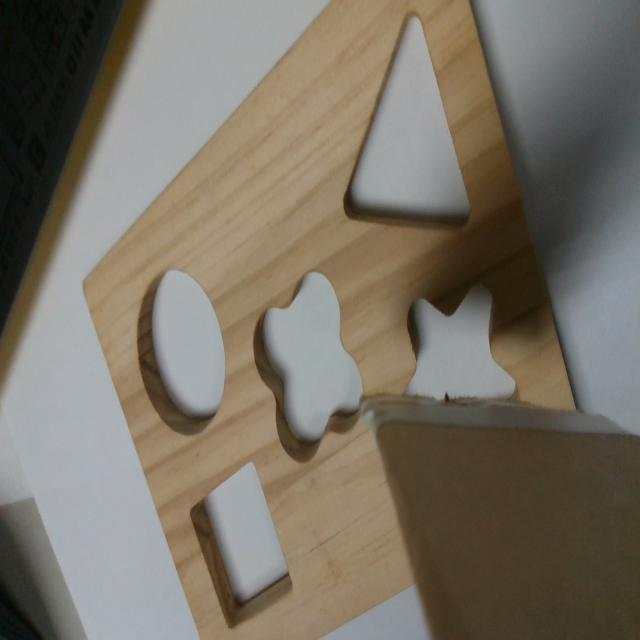circle: (138, 268, 227, 438)
flower: (251, 270, 366, 463)
square: (189, 460, 295, 636)
star: (404, 286, 520, 399)
triangle: (341, 8, 474, 231)
